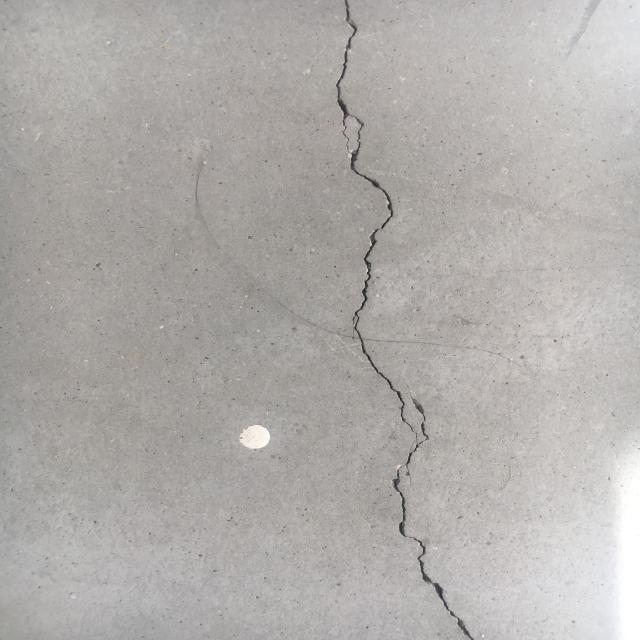Rachadura: (333, 0, 482, 640)
